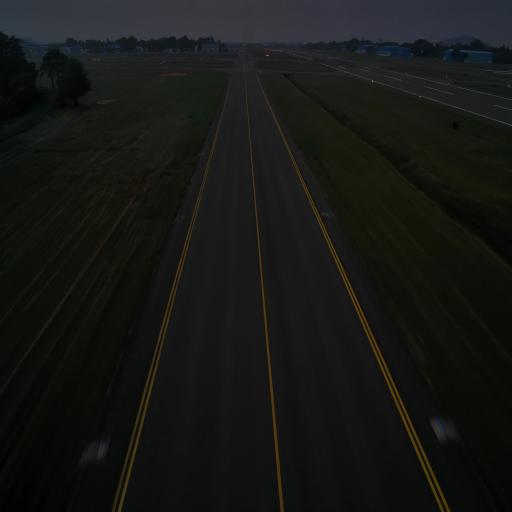on: (435, 416, 449, 439), (96, 435, 107, 454), (297, 148, 300, 154), (202, 150, 204, 155)
